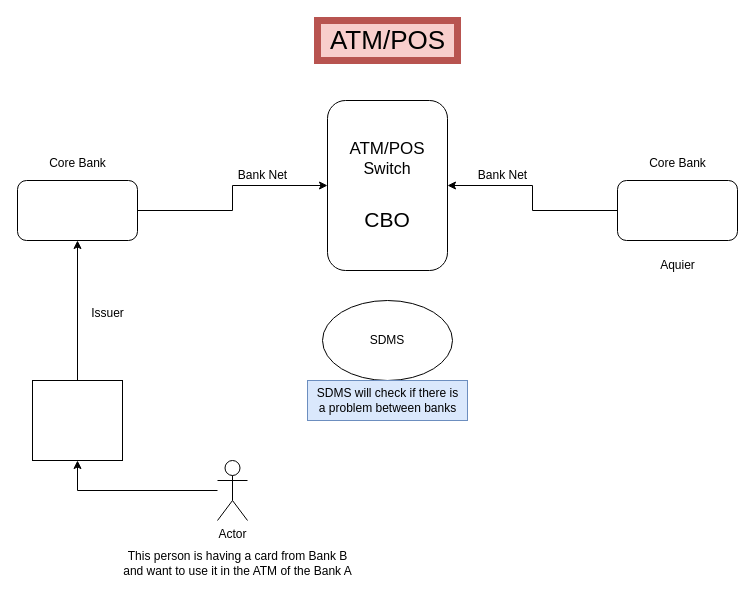
Some shapes in this 755 by 601 pixel diagram are drawn without their labels. Here are the shapes that lost their labels. From the top down, the box of each, then its label:
(16, 180, 138, 240): Bank A
(616, 180, 738, 240): Bank B
(32, 380, 122, 460): ATM
